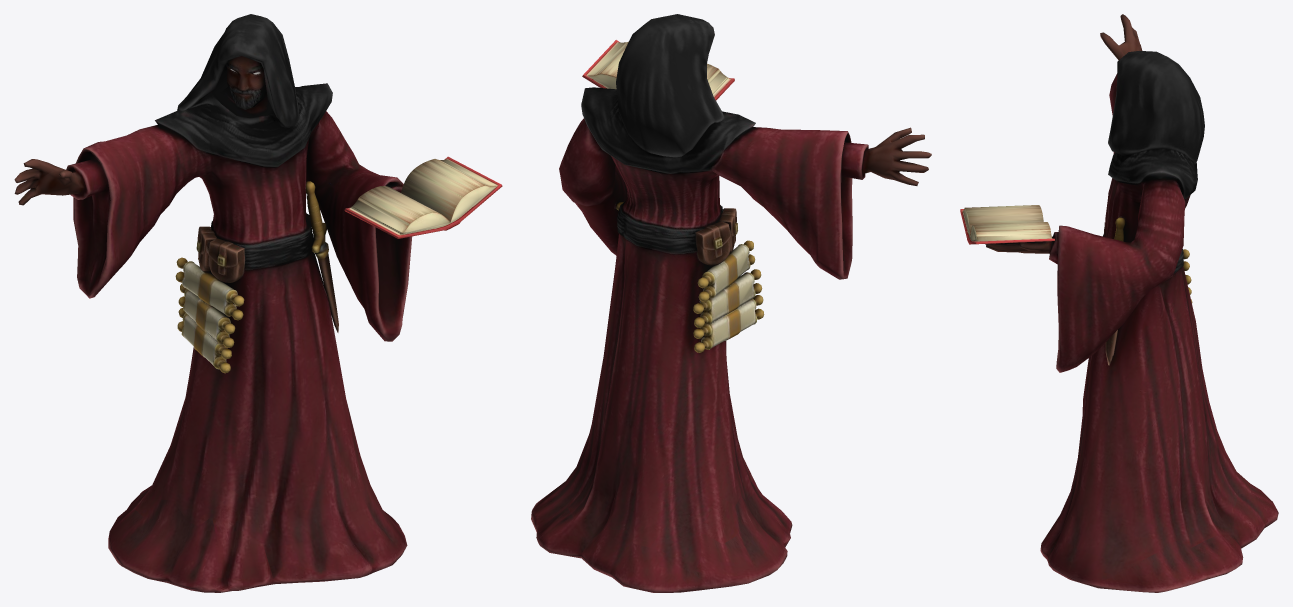
File: MZ4250 - Human Male Wizard Red Robe.glb
3 views of the same model, side by side, from view 1: azimuth 30°, elevation 25°; view 2: azimuth 150°, elevation 25°; view 3: azimuth 270°, elevation 25° (orthographic). The views are drawn at different scales.
Parts seen in each view (by area): view 1: body_low.001, book_low.001, sc1_low.001, dagger_low.001, sc2_low.001, sc3_low.001, pouch_low.001; view 2: body_low.001, sc2_low.001, sc3_low.001, book_low.001, sc1_low.001, pouch2_low.001; view 3: body_low.001, book_low.001, dagger_low.001.
Part boxes in pixels (x1,y1,x2,y2): body_low.001: [14, 14, 412, 592]; book_low.001: [344, 156, 502, 238]; sc1_low.001: [175, 257, 244, 320]; dagger_low.001: [306, 181, 338, 332]; sc2_low.001: [178, 284, 235, 347]; sc3_low.001: [177, 308, 231, 373]; pouch_low.001: [208, 238, 245, 282]; body_low.001: [531, 14, 931, 592]; sc2_low.001: [693, 269, 762, 327]; sc3_low.001: [693, 295, 764, 352]; book_low.001: [582, 40, 734, 100]; sc1_low.001: [697, 240, 755, 301]; pouch2_low.001: [695, 221, 730, 265]; body_low.001: [985, 14, 1278, 592]; book_low.001: [960, 205, 1054, 244]; dagger_low.001: [1105, 217, 1125, 365].
Bounding box in the file's own units: 4.85 × 6.07 × 3.65.
Materials: 1 (1 with a texture image).
